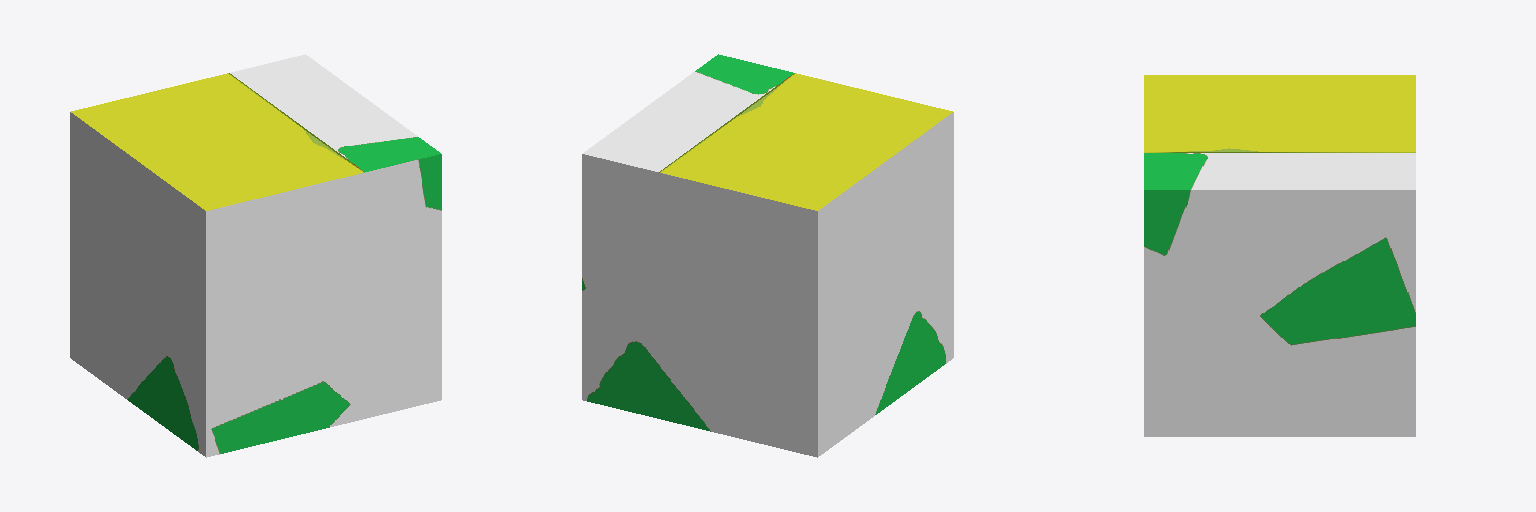
3 views of the same model, side by side, from view 1: azimuth 30°, elevation 25°; view 2: azimuth 150°, elevation 25°; view 3: azimuth 270°, elevation 25° (orthographic).
Visible parts, largest first — view 1: Cube.001; view 2: Cube.001; view 3: Cube.001.
Part boxes in pixels (x1,y1,x2,y2): Cube.001: (70, 54, 441, 457); Cube.001: (582, 54, 953, 457); Cube.001: (1144, 75, 1415, 436).
Size of the model in its own units: 2 by 2 by 2.
1 materials, 1 textured.